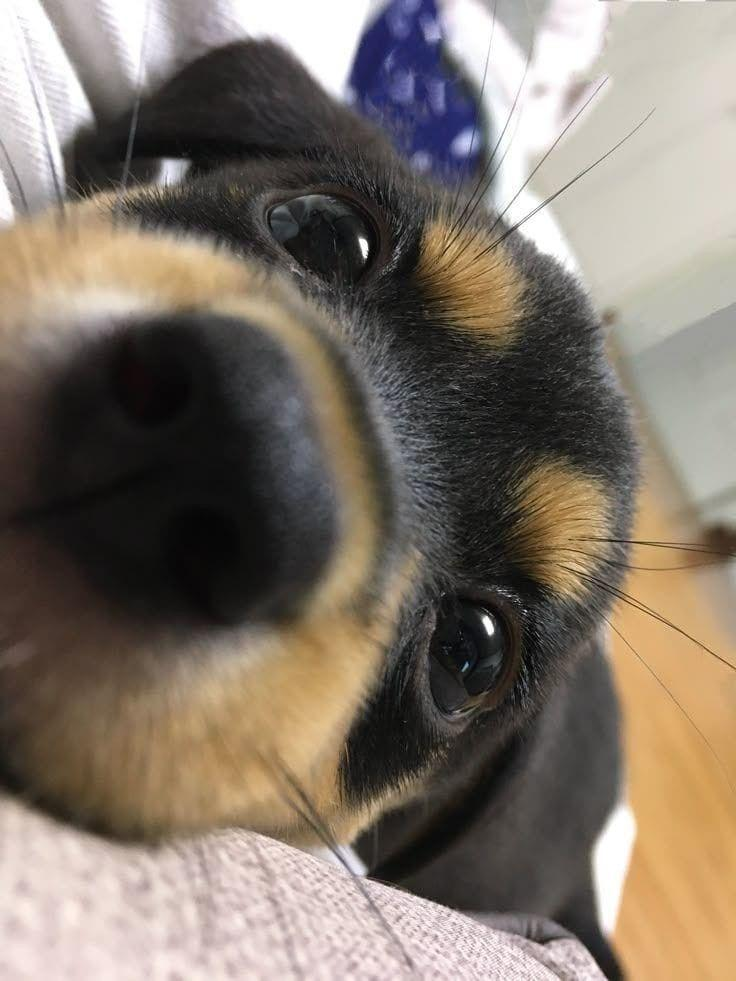adult_dog: (3, 41, 644, 909)
